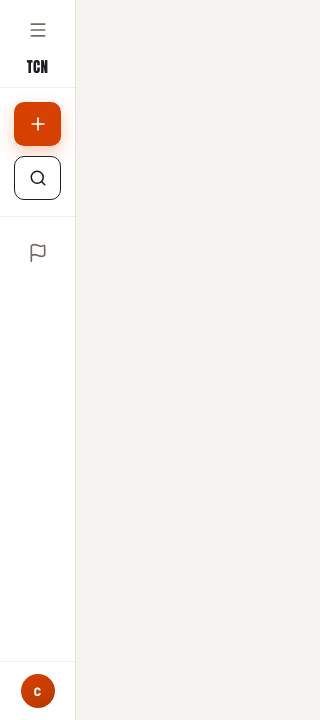
AppNav — Gestion des utilisateurs (#170) › garde la section fermée à qui ne porte aucun de ses pouvoirs
Click the button named "Déplier la navigation": (38, 30) [16,8,60,52]
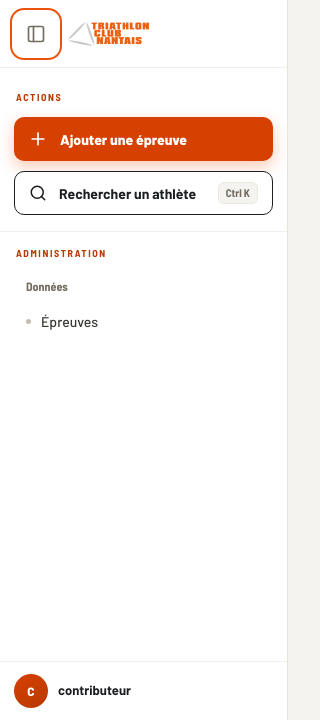
Check: the text "Administration" is shown, box [16,247,107,259]
